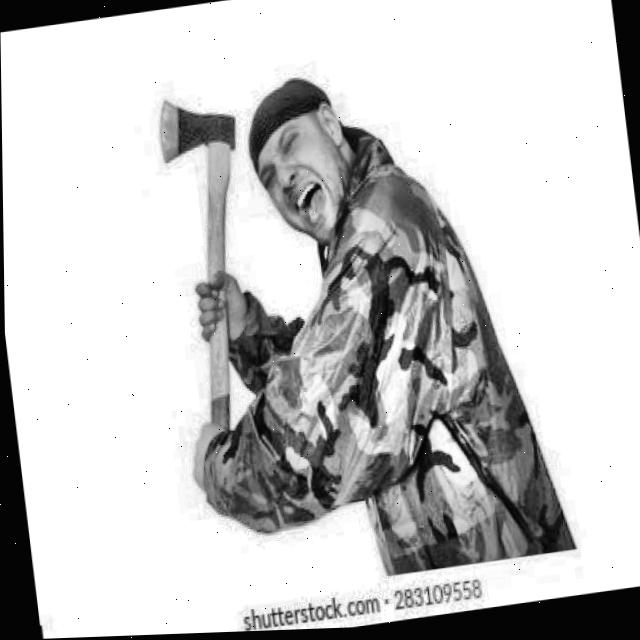kapak: (154, 85, 240, 461)
